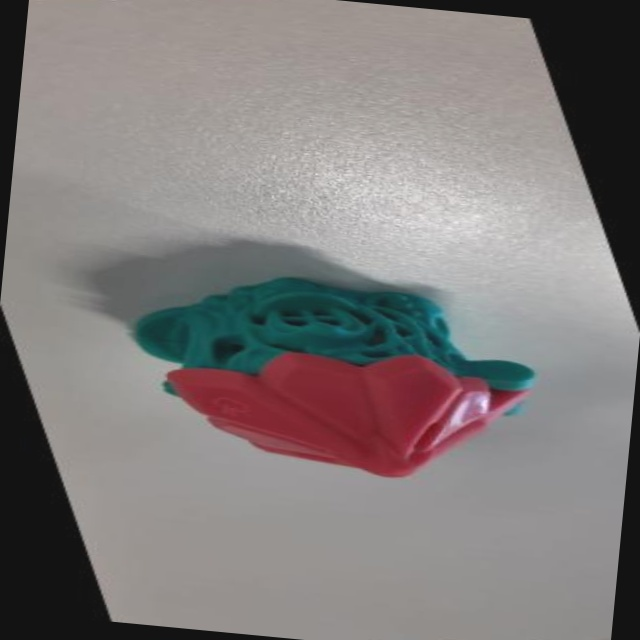House: (74, 233, 612, 533)
